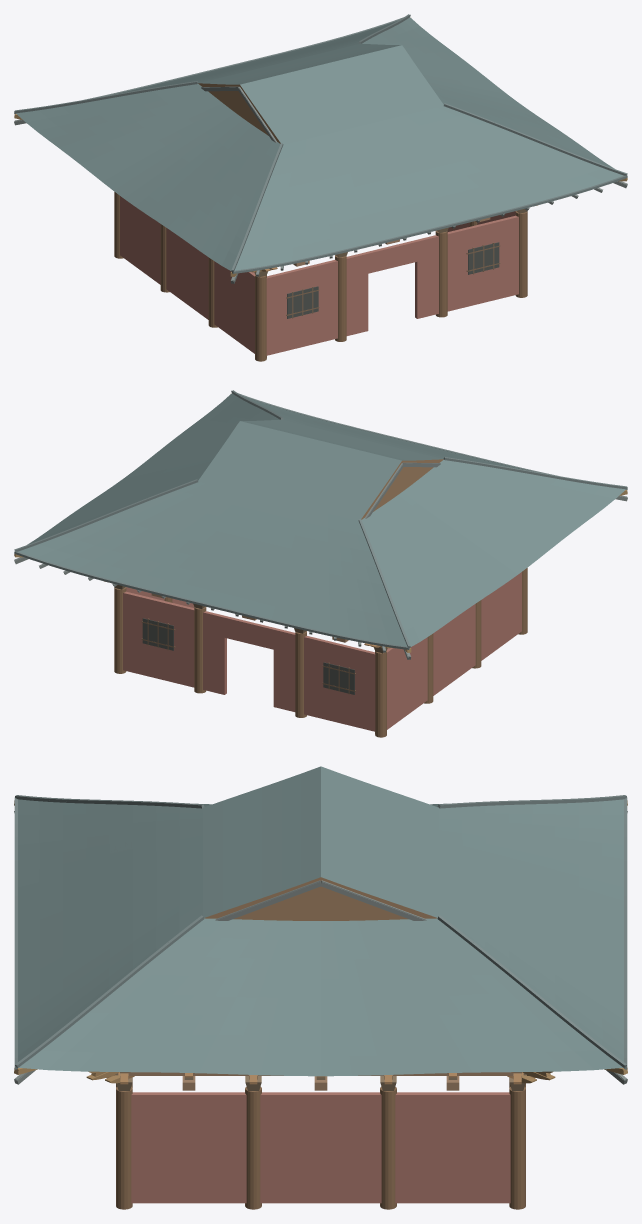
Rendered from WANFO_V003_C02_FULL.glb.
3 views of the same model, one above another, from view 1: azimuth 30°, elevation 25°; view 2: azimuth 150°, elevation 25°; view 3: azimuth 270°, elevation 25° (orthographic). The views are drawn at different scales.
Parts seen in each view (by area): view 1: TMP_XIESHAN_STITCHED_SURFACE_V002, TMP_FRONT_WALL_2, TMP_FRONT_WALL_0, TMP_SIDE_WALL_-1_0, TMP_SIDE_WALL_-1_1, TMP_SIDE_WALL_-1_2, TMP_FRONT_DOOR_JAMB_1, TMP_FRONT_DOOR_JAMB_-1, TMP_FRONT_DOOR_HEADER, TMP_COLUMN_0_0, TMP_COLUMN_2_0, TMP_COLUMN_3_0 (+4 smaller); view 2: TMP_XIESHAN_STITCHED_SURFACE_V002, TMP_REAR_WALL_2, TMP_REAR_WALL_0, TMP_SIDE_WALL_-1_2, TMP_SIDE_WALL_-1_1, TMP_SIDE_WALL_-1_0, TMP_REAR_DOOR_JAMB_1, TMP_REAR_DOOR_JAMB_-1, TMP_REAR_DOOR_HEADER, TMP_COLUMN_0_3, TMP_COLUMN_2_3, TMP_COLUMN_3_3 (+4 smaller); view 3: TMP_XIESHAN_STITCHED_SURFACE_V002, TMP_SIDE_WALL_1_1, TMP_SIDE_WALL_1_0, TMP_SIDE_WALL_1_2, TMP_COLUMN_3_0, TMP_COLUMN_3_3, TMP_COLUMN_3_1, TMP_COLUMN_3_2, V003_OUTER_BENT_LOWER_E.
Boxes of the visible parts, x1,y1,x2,y2 form: TMP_XIESHAN_STITCHED_SURFACE_V002: (16, 17, 623, 270); TMP_FRONT_WALL_2: (447, 215, 518, 311); TMP_FRONT_WALL_0: (266, 260, 337, 355); TMP_SIDE_WALL_-1_0: (214, 261, 254, 353); TMP_SIDE_WALL_-1_1: (166, 228, 208, 319); TMP_SIDE_WALL_-1_2: (120, 196, 160, 284); TMP_FRONT_DOOR_JAMB_1: (415, 235, 438, 318); TMP_FRONT_DOOR_JAMB_-1: (346, 252, 368, 335); TMP_FRONT_DOOR_HEADER: (366, 240, 417, 273); TMP_COLUMN_0_0: (255, 274, 266, 361); TMP_COLUMN_2_0: (435, 230, 447, 317); TMP_COLUMN_3_0: (515, 211, 527, 297); TMP_XIESHAN_STITCHED_SURFACE_V002: (18, 393, 625, 646); TMP_REAR_WALL_2: (123, 591, 194, 687); TMP_REAR_WALL_0: (304, 636, 375, 731); TMP_SIDE_WALL_-1_2: (387, 637, 427, 729); TMP_SIDE_WALL_-1_1: (433, 604, 475, 695); TMP_SIDE_WALL_-1_0: (481, 572, 521, 660); TMP_REAR_DOOR_JAMB_1: (203, 611, 226, 694); TMP_REAR_DOOR_JAMB_-1: (273, 628, 295, 711); TMP_REAR_DOOR_HEADER: (224, 616, 275, 649); TMP_COLUMN_0_3: (375, 650, 386, 737); TMP_COLUMN_2_3: (194, 606, 206, 693); TMP_COLUMN_3_3: (114, 587, 126, 673); TMP_XIESHAN_STITCHED_SURFACE_V002: (18, 766, 623, 1076); TMP_SIDE_WALL_1_1: (260, 1092, 381, 1203); TMP_SIDE_WALL_1_0: (131, 1092, 246, 1203); TMP_SIDE_WALL_1_2: (395, 1092, 510, 1203); TMP_COLUMN_3_0: (116, 1086, 132, 1209); TMP_COLUMN_3_3: (509, 1086, 525, 1209); TMP_COLUMN_3_1: (245, 1086, 261, 1209); TMP_COLUMN_3_2: (380, 1086, 396, 1209); V003_OUTER_BENT_LOWER_E: (128, 1072, 513, 1075).
Bounding box in the file's own units: 17481 × 8870 × 16716.
